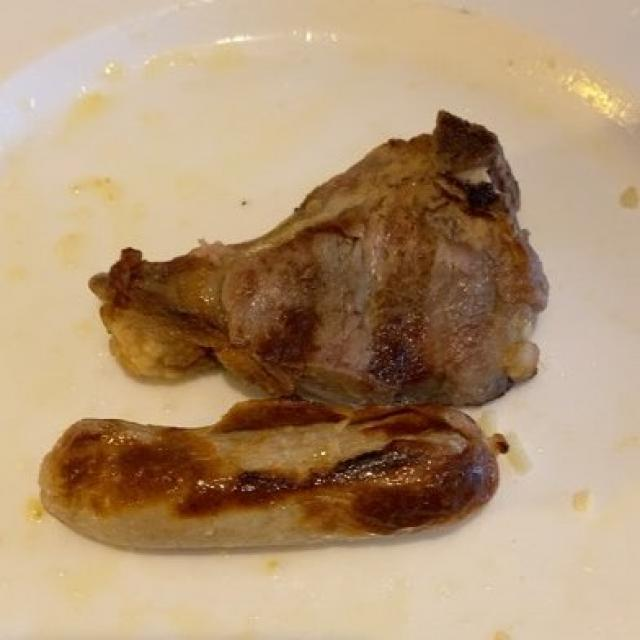chicken: (81, 113, 535, 388)
sausage: (53, 411, 505, 545)
